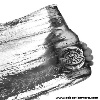beer: (44, 5, 86, 83)
